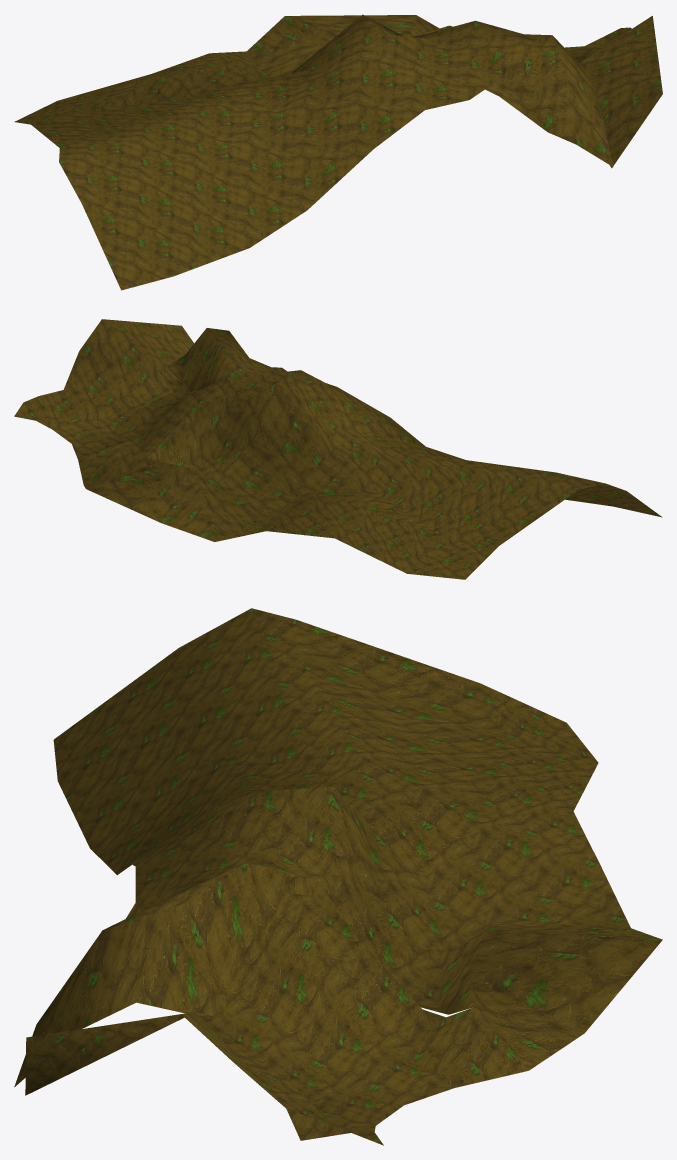
Rendered from MIRKWOOD_AREA2_BARRIER.fbx.
3 renders of one model, top to bottom at view 1: azimuth 30°, elevation 25°; view 2: azimuth 150°, elevation 25°; view 3: azimuth 270°, elevation 25°, orthographic. The views are drawn at different scales.
Parts seen in each view (by area): view 1: MIRKWOOD_AREA2_BARRIER; view 2: MIRKWOOD_AREA2_BARRIER; view 3: MIRKWOOD_AREA2_BARRIER.
Part boxes in pixels (x1,y1,x2,y2): MIRKWOOD_AREA2_BARRIER: (14,14,662,290); MIRKWOOD_AREA2_BARRIER: (14,319,662,579); MIRKWOOD_AREA2_BARRIER: (14,608,662,1145).
Size of the model in its own units: 1467297 by 304737 by 859685.
1 material, 1 textured.
